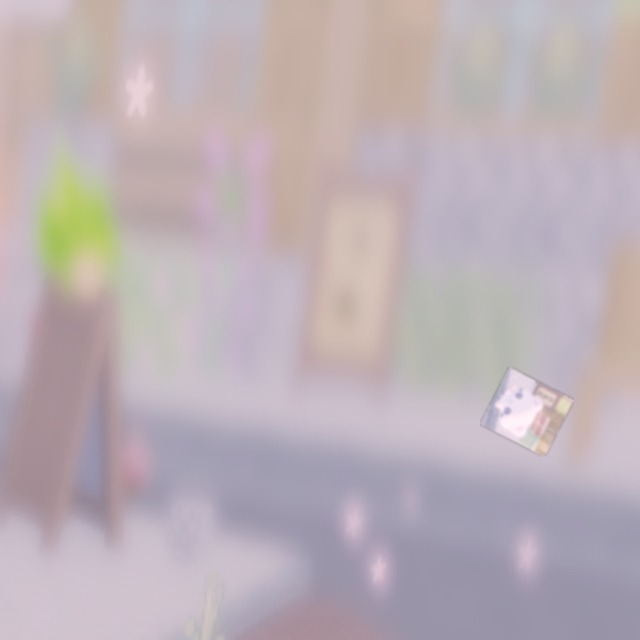urso_branco: (480, 367, 574, 457)
